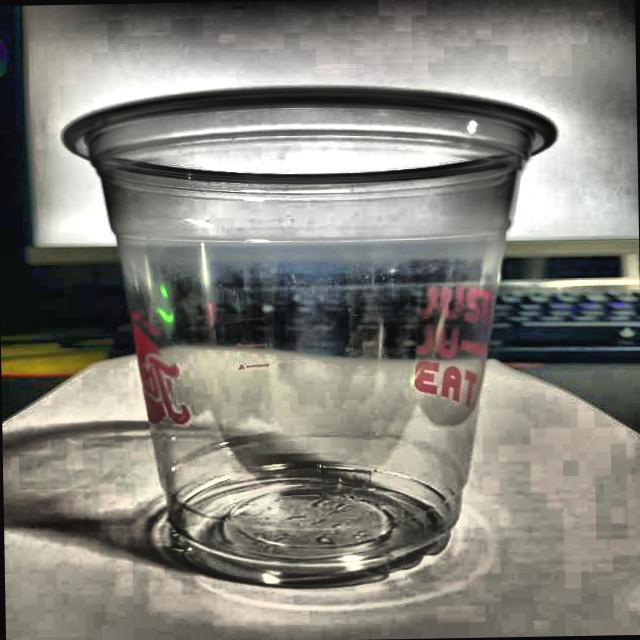plastic cup: (52, 80, 570, 591)
